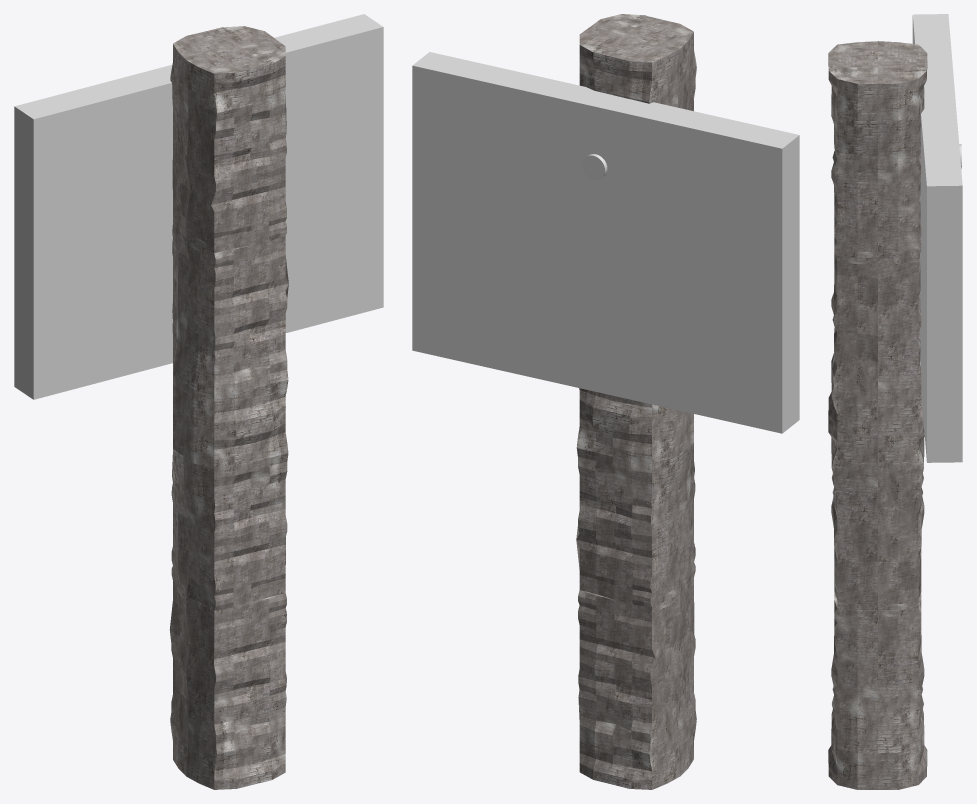
The model's file is SignPost.fbx.
3 views of the same model, side by side, from view 1: azimuth 30°, elevation 25°; view 2: azimuth 150°, elevation 25°; view 3: azimuth 270°, elevation 25° (orthographic). The views are drawn at different scales.
Parts seen in each view (by area): view 1: Cube.004, Cube.003, Cube, Cube.002, Cube.001; view 2: Plane, Cube.004, Cube, Cube.001, Cube.003, Cube.002; view 3: Cube.003, Cube.004, Cube, Cube.002, Cube.001.
Part boxes in pixels (x1=…): Cube.004: x1=14, y1=14, x2=383, y2=399; Cube.003: x1=170, y1=26, x2=286, y2=252; Cube: x1=169, y1=581, x2=286, y2=789; Cube.002: x1=172, y1=223, x2=288, y2=431; Cube.001: x1=171, y1=411, x2=288, y2=610; Plane: x1=456, y1=118, x2=736, y2=401; Cube.004: x1=412, y1=52, x2=799, y2=433; Cube: x1=578, y1=577, x2=696, y2=789; Cube.001: x1=576, y1=409, x2=695, y2=607; Cube.003: x1=579, y1=14, x2=696, y2=111; Cube.002: x1=579, y1=388, x2=684, y2=425; Cube.003: x1=828, y1=41, x2=927, y2=257; Cube.004: x1=912, y1=14, x2=962, y2=462; Cube: x1=828, y1=591, x2=927, y2=789; Cube.002: x1=828, y1=251, x2=923, y2=435; Cube.001: x1=828, y1=424, x2=924, y2=610.
Size of the model in its own units: 1002 by 1915 by 330.
